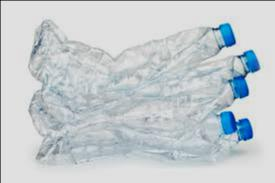Plastic: (28, 16, 238, 106), (27, 76, 244, 132), (25, 49, 258, 101), (30, 116, 259, 167), (14, 106, 237, 154)
